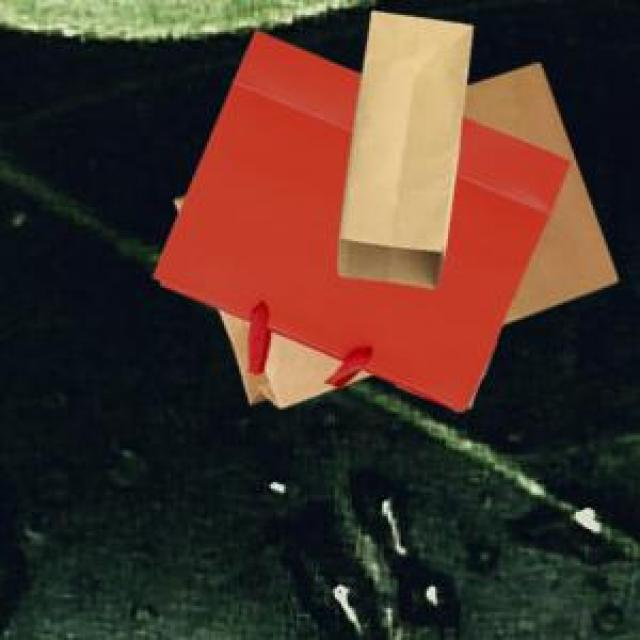Paper -Biodegradable-: (149, 6, 620, 416)
